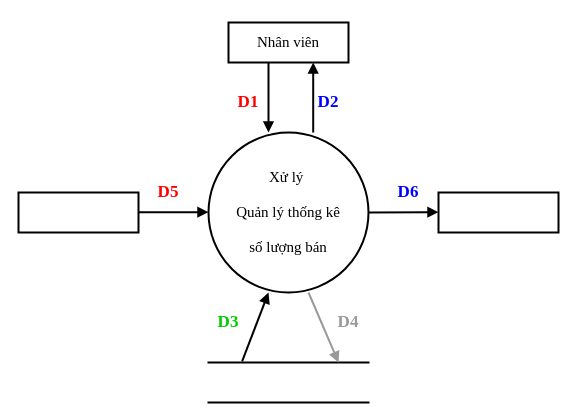
Image size: 576x420. Some labels were removed from this diagram. The centre of each missing label's shape, as x and y in pixels:
Thiết bị nhập: pixel 78 212
Thiết bị xuất: pixel 498 212
